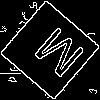M: (25, 25, 87, 88)
